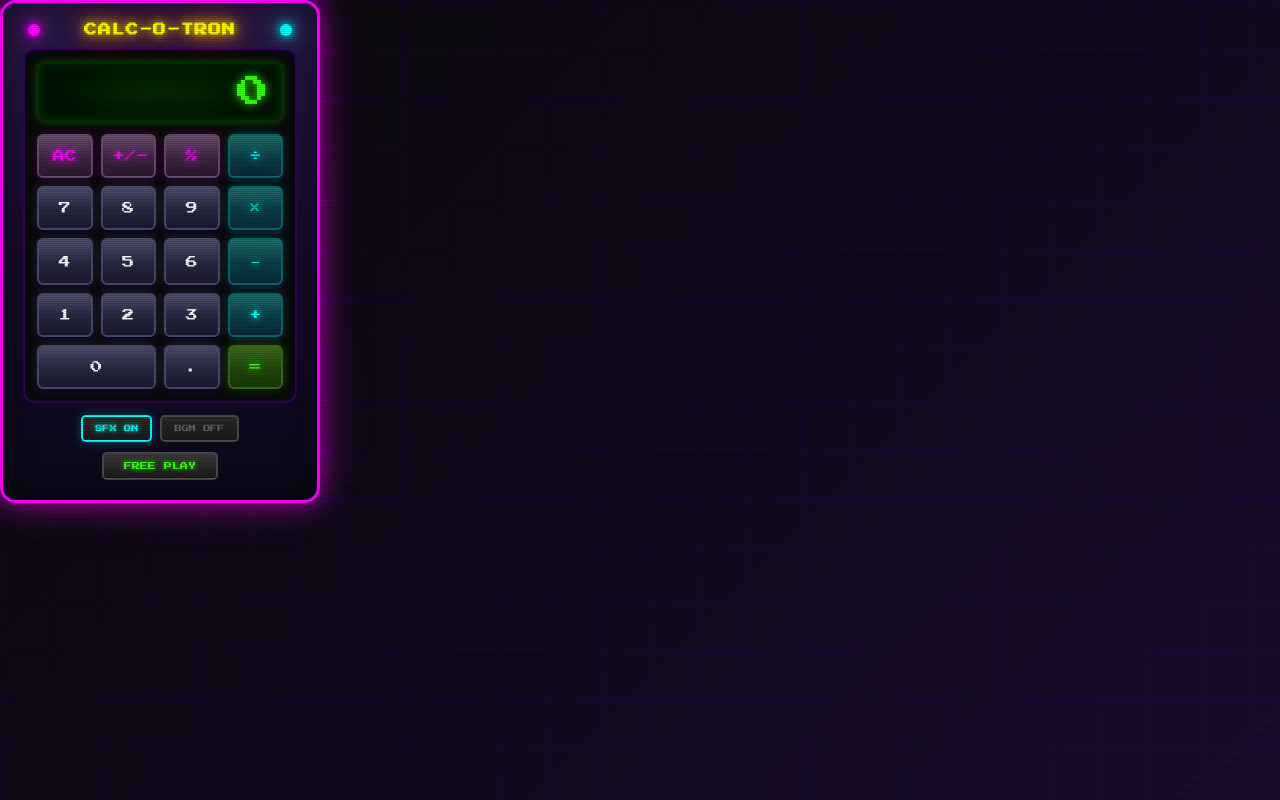
Test case: Calculator › inputs digits correctly
The image size is (1280, 800).
Click the button "1": point(65, 315) top-left (37, 293), bottom-right (92, 337)
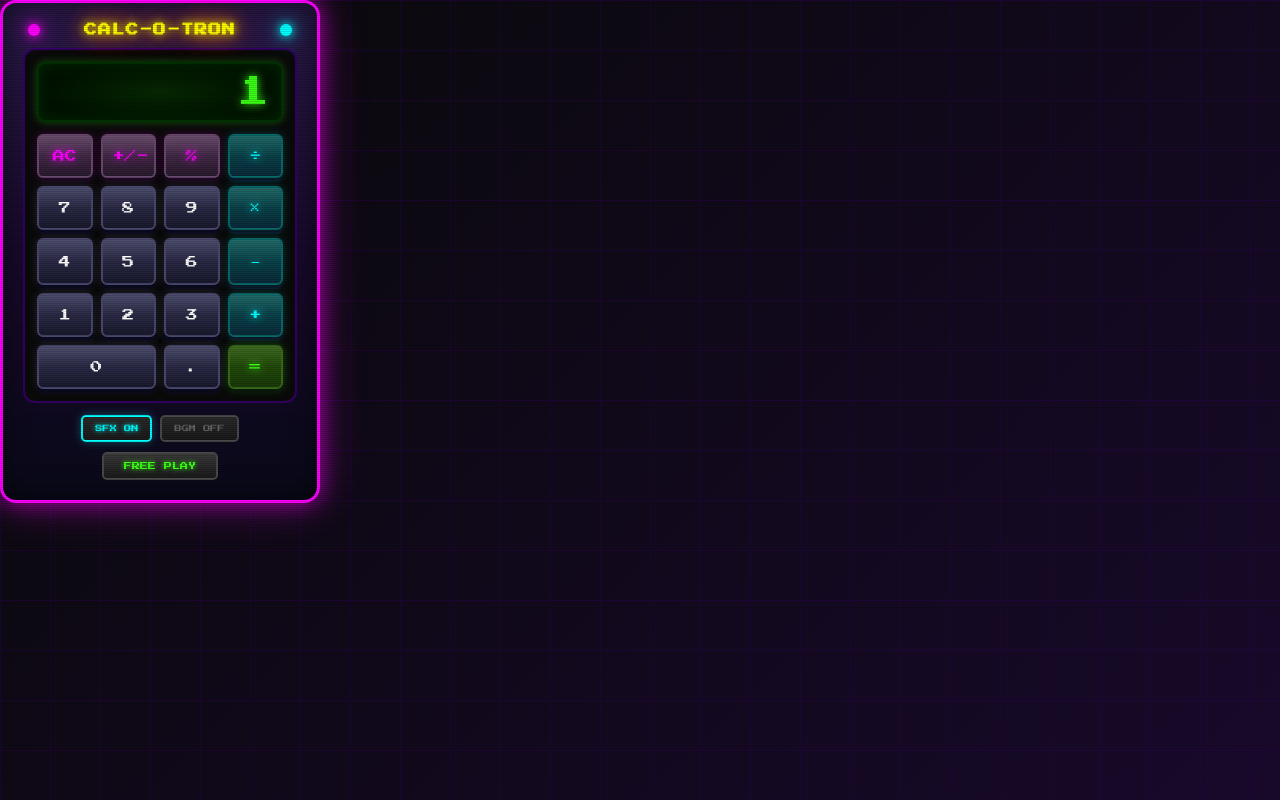
Click the button "2": point(128, 315) top-left (100, 293), bottom-right (156, 337)
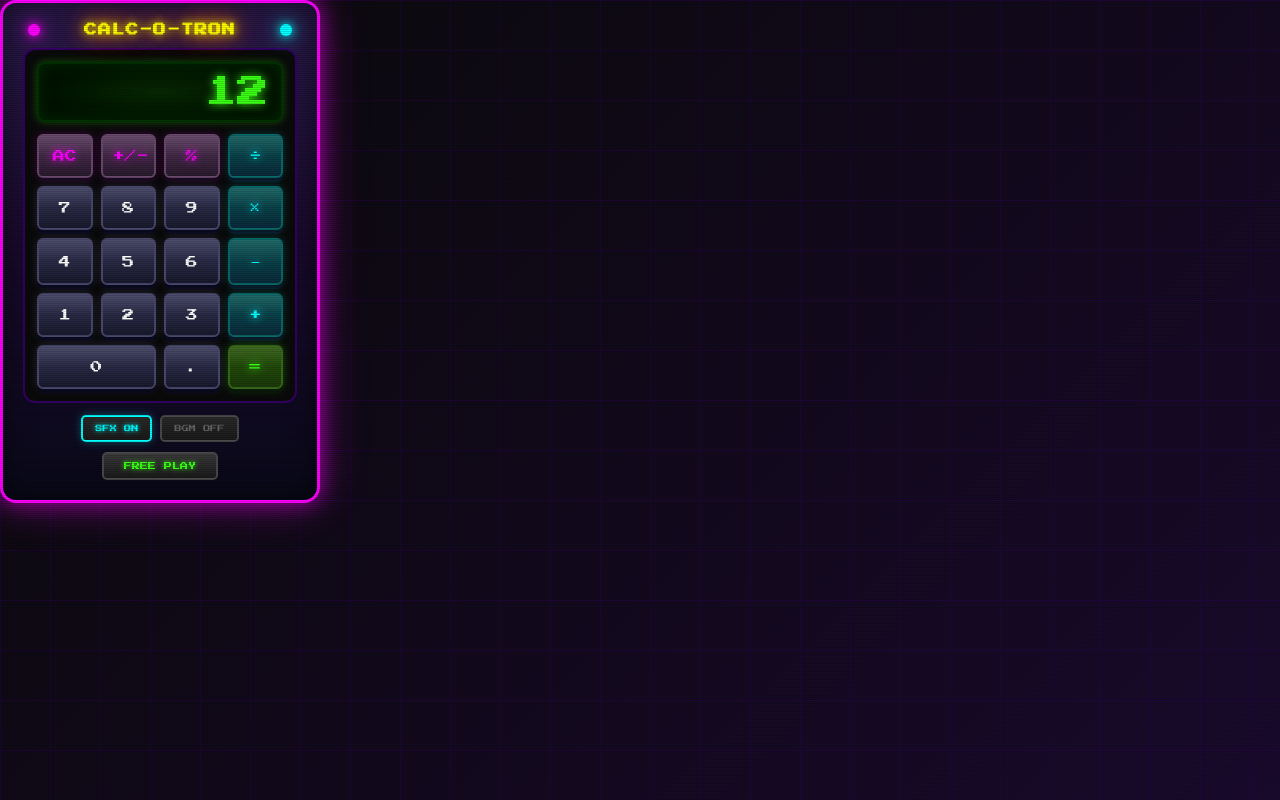
Click the button "3": point(192, 315) top-left (164, 293), bottom-right (220, 337)
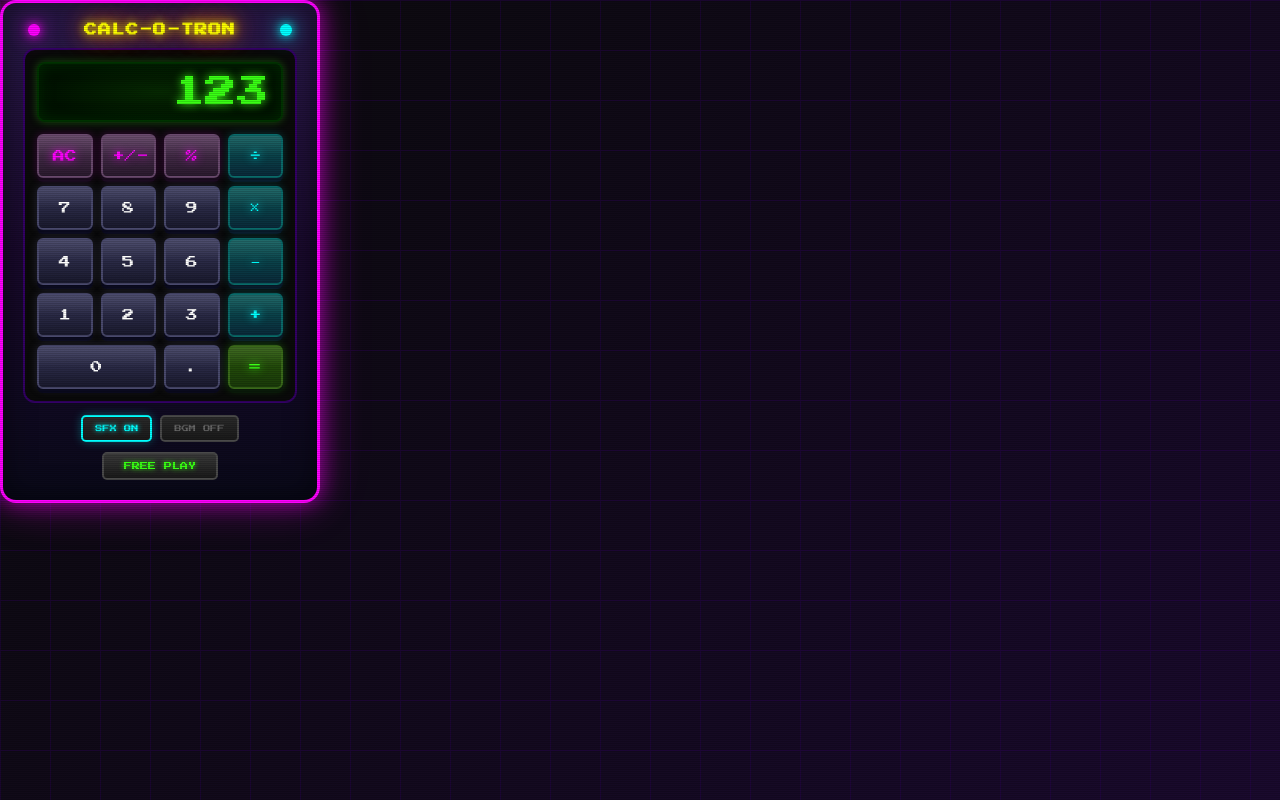
Check: the text with test id "display" reads "123", box top-left (173, 76), bottom-right (269, 108)
